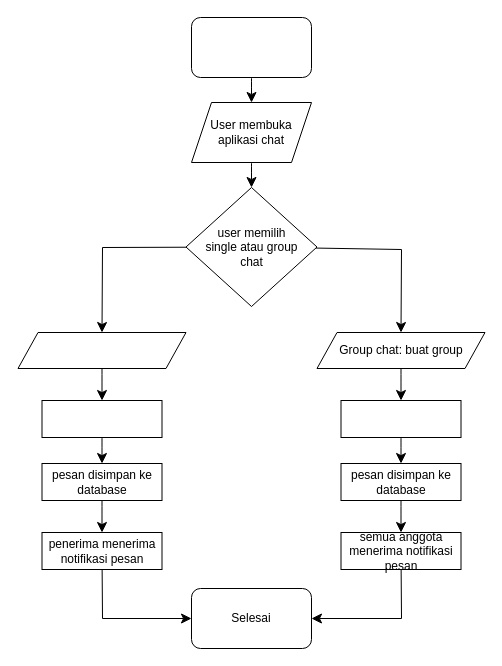
Some shapes in this 502 by 666 pixel diagram are drawn without their labels. Each missing label, with the centre of its shape:
"Kirim pesan ke group" belongs at pixel 400 419.
"Kirim pesan ke kontak" belongs at pixel 101 419.
"Mulai" belongs at pixel 251 47.
"Single chat: pilih kontak" belongs at pixel 101 350.
